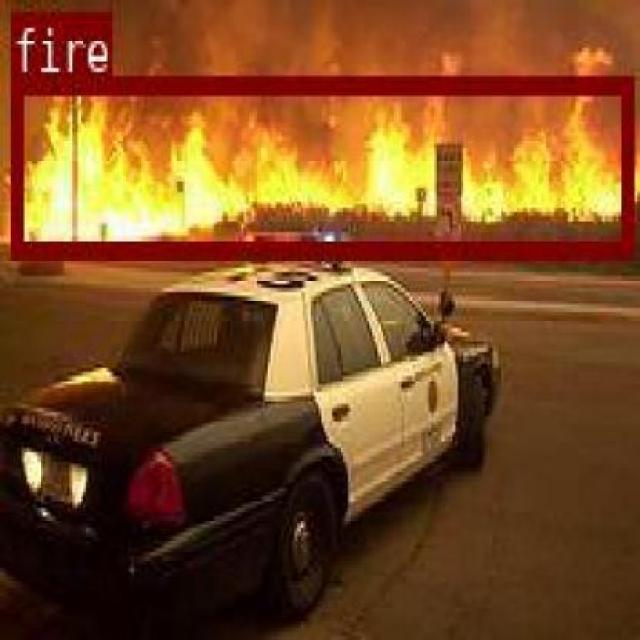Fire: (10, 74, 630, 252)
